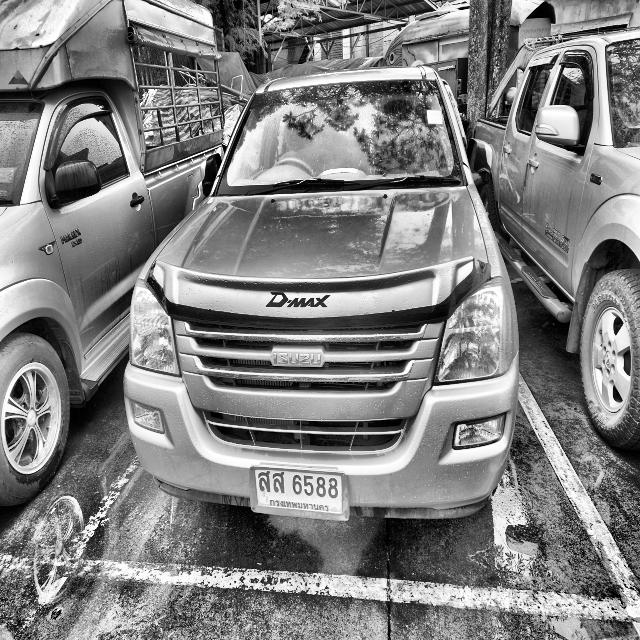license-plate: (249, 461, 351, 524)
